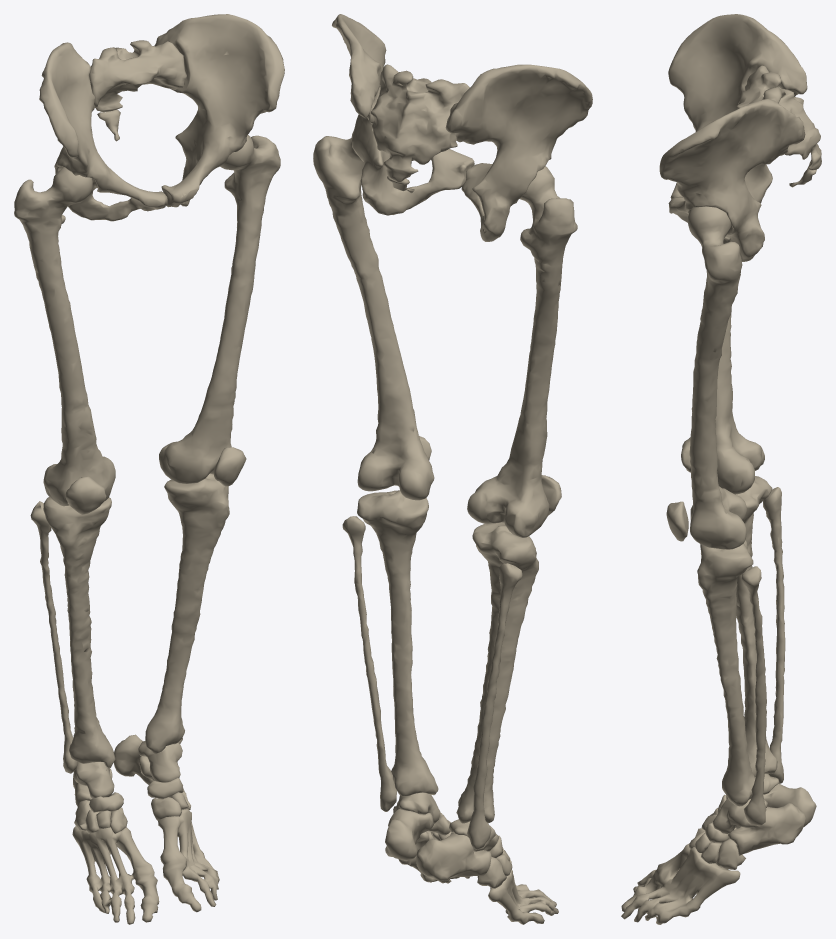
The model's file is vhf_lower_limb_adult_female.skeletal.LOD3.glb.
3 renders of one model, left to right at view 1: azimuth 30°, elevation 25°; view 2: azimuth 150°, elevation 25°; view 3: azimuth 270°, elevation 25°, orthographic. The views are drawn at different scales.
Visible parts, largest first — view 1: VHF_LOWER_LIMB.ADULT.FEMALE.SKELETAL.HIP_BONE_OS_COXAE.L, VHF_LOWER_LIMB.ADULT.FEMALE.SKELETAL.FEMUR.R, VHF_LOWER_LIMB.ADULT.FEMALE.SKELETAL.FEMUR.L, VHF_LOWER_LIMB.ADULT.FEMALE.SKELETAL.TIBIA.L, VHF_LOWER_LIMB.ADULT.FEMALE.SKELETAL.METATARSALS_AND_PHALANG (×2), VHF_LOWER_LIMB.ADULT.FEMALE.SKELETAL.HIP_BONE_OS_COXAE.R, VHF_LOWER_LIMB.ADULT.FEMALE.SKELETAL.TIBIA.R, VHF_LOWER_LIMB.ADULT.FEMALE.SKELETAL.SACRUM, VHF_LOWER_LIMB.ADULT.FEMALE.SKELETAL.FIBULA.R, VHF_LOWER_LIMB.ADULT.FEMALE.SKELETAL.CALCANEUS.L, VHF_LOWER_LIMB.ADULT.FEMALE.SKELETAL.TALUS.L, VHF_LOWER_LIMB.ADULT.FEMALE.SKELETAL.PATELLA.R (+2 smaller); view 2: VHF_LOWER_LIMB.ADULT.FEMALE.SKELETAL.HIP_BONE_OS_COXAE.R, VHF_LOWER_LIMB.ADULT.FEMALE.SKELETAL.FEMUR.L, VHF_LOWER_LIMB.ADULT.FEMALE.SKELETAL.FEMUR.R, VHF_LOWER_LIMB.ADULT.FEMALE.SKELETAL.TIBIA.L, VHF_LOWER_LIMB.ADULT.FEMALE.SKELETAL.HIP_BONE_OS_COXAE.L, VHF_LOWER_LIMB.ADULT.FEMALE.SKELETAL.TIBIA.R, VHF_LOWER_LIMB.ADULT.FEMALE.SKELETAL.SACRUM, VHF_LOWER_LIMB.ADULT.FEMALE.SKELETAL.FIBULA.R, VHF_LOWER_LIMB.ADULT.FEMALE.SKELETAL.FIBULA.L, VHF_LOWER_LIMB.ADULT.FEMALE.SKELETAL.CALCANEUS.R, VHF_LOWER_LIMB.ADULT.FEMALE.SKELETAL.METATARSALS_AND_PHALANG, VHF_LOWER_LIMB.ADULT.FEMALE.SKELETAL.CALCANEUS.L (+1 smaller); view 3: VHF_LOWER_LIMB.ADULT.FEMALE.SKELETAL.FEMUR.L, VHF_LOWER_LIMB.ADULT.FEMALE.SKELETAL.HIP_BONE_OS_COXAE.L, VHF_LOWER_LIMB.ADULT.FEMALE.SKELETAL.HIP_BONE_OS_COXAE.R, VHF_LOWER_LIMB.ADULT.FEMALE.SKELETAL.TIBIA.L, VHF_LOWER_LIMB.ADULT.FEMALE.SKELETAL.METATARSALS_AND_PHALANG, VHF_LOWER_LIMB.ADULT.FEMALE.SKELETAL.FEMUR.R, VHF_LOWER_LIMB.ADULT.FEMALE.SKELETAL.TIBIA.R, VHF_LOWER_LIMB.ADULT.FEMALE.SKELETAL.FIBULA.L, VHF_LOWER_LIMB.ADULT.FEMALE.SKELETAL.FIBULA.R, VHF_LOWER_LIMB.ADULT.FEMALE.SKELETAL.SACRUM, VHF_LOWER_LIMB.ADULT.FEMALE.SKELETAL.CALCANEUS.L, VHF_LOWER_LIMB.ADULT.FEMALE.SKELETAL.CALCANEUS.R (+3 smaller).
Part boxes in pixels (x1=…): VHF_LOWER_LIMB.ADULT.FEMALE.SKELETAL.HIP_BONE_OS_COXAE.L: x1=154, y1=14, x2=284, y2=207; VHF_LOWER_LIMB.ADULT.FEMALE.SKELETAL.FEMUR.R: x1=14, y1=167, x2=115, y2=506; VHF_LOWER_LIMB.ADULT.FEMALE.SKELETAL.FEMUR.L: x1=159, y1=135, x2=280, y2=483; VHF_LOWER_LIMB.ADULT.FEMALE.SKELETAL.TIBIA.L: x1=145, y1=473, x2=229, y2=753; VHF_LOWER_LIMB.ADULT.FEMALE.SKELETAL.METATARSALS_AND_PHALANG (×2): x1=72, y1=809, x2=219, y2=924; VHF_LOWER_LIMB.ADULT.FEMALE.SKELETAL.HIP_BONE_OS_COXAE.R: x1=39, y1=42, x2=167, y2=221; VHF_LOWER_LIMB.ADULT.FEMALE.SKELETAL.TIBIA.R: x1=43, y1=497, x2=115, y2=767; VHF_LOWER_LIMB.ADULT.FEMALE.SKELETAL.SACRUM: x1=89, y1=40, x2=186, y2=112; VHF_LOWER_LIMB.ADULT.FEMALE.SKELETAL.FIBULA.R: x1=30, y1=501, x2=78, y2=773; VHF_LOWER_LIMB.ADULT.FEMALE.SKELETAL.CALCANEUS.L: x1=113, y1=734, x2=154, y2=784; VHF_LOWER_LIMB.ADULT.FEMALE.SKELETAL.TALUS.L: x1=138, y1=741, x2=182, y2=782; VHF_LOWER_LIMB.ADULT.FEMALE.SKELETAL.PATELLA.R: x1=65, y1=476, x2=106, y2=514; VHF_LOWER_LIMB.ADULT.FEMALE.SKELETAL.HIP_BONE_OS_COXAE.R: x1=445, y1=64, x2=592, y2=241; VHF_LOWER_LIMB.ADULT.FEMALE.SKELETAL.FEMUR.L: x1=313, y1=136, x2=434, y2=500; VHF_LOWER_LIMB.ADULT.FEMALE.SKELETAL.FEMUR.R: x1=467, y1=166, x2=577, y2=537; VHF_LOWER_LIMB.ADULT.FEMALE.SKELETAL.TIBIA.L: x1=357, y1=490, x2=438, y2=796; VHF_LOWER_LIMB.ADULT.FEMALE.SKELETAL.HIP_BONE_OS_COXAE.L: x1=332, y1=14, x2=474, y2=215; VHF_LOWER_LIMB.ADULT.FEMALE.SKELETAL.TIBIA.R: x1=456, y1=522, x2=538, y2=823; VHF_LOWER_LIMB.ADULT.FEMALE.SKELETAL.SACRUM: x1=370, y1=64, x2=469, y2=182; VHF_LOWER_LIMB.ADULT.FEMALE.SKELETAL.FIBULA.R: x1=467, y1=563, x2=522, y2=849; VHF_LOWER_LIMB.ADULT.FEMALE.SKELETAL.FIBULA.L: x1=342, y1=516, x2=396, y2=811; VHF_LOWER_LIMB.ADULT.FEMALE.SKELETAL.CALCANEUS.R: x1=416, y1=833, x2=491, y2=880; VHF_LOWER_LIMB.ADULT.FEMALE.SKELETAL.METATARSALS_AND_PHALANG: x1=488, y1=860, x2=558, y2=924; VHF_LOWER_LIMB.ADULT.FEMALE.SKELETAL.CALCANEUS.L: x1=385, y1=809, x2=433, y2=860; VHF_LOWER_LIMB.ADULT.FEMALE.SKELETAL.FEMUR.L: x1=687, y1=206, x2=747, y2=549; VHF_LOWER_LIMB.ADULT.FEMALE.SKELETAL.HIP_BONE_OS_COXAE.L: x1=659, y1=99, x2=805, y2=261; VHF_LOWER_LIMB.ADULT.FEMALE.SKELETAL.HIP_BONE_OS_COXAE.R: x1=668, y1=14, x2=807, y2=203; VHF_LOWER_LIMB.ADULT.FEMALE.SKELETAL.TIBIA.L: x1=697, y1=540, x2=755, y2=806; VHF_LOWER_LIMB.ADULT.FEMALE.SKELETAL.METATARSALS_AND_PHALANG: x1=621, y1=843, x2=740, y2=924; VHF_LOWER_LIMB.ADULT.FEMALE.SKELETAL.FEMUR.R: x1=715, y1=235, x2=764, y2=494; VHF_LOWER_LIMB.ADULT.FEMALE.SKELETAL.TIBIA.R: x1=736, y1=476, x2=777, y2=777; VHF_LOWER_LIMB.ADULT.FEMALE.SKELETAL.FIBULA.L: x1=741, y1=566, x2=766, y2=826; VHF_LOWER_LIMB.ADULT.FEMALE.SKELETAL.FIBULA.R: x1=763, y1=487, x2=785, y2=783; VHF_LOWER_LIMB.ADULT.FEMALE.SKELETAL.SACRUM: x1=736, y1=65, x2=821, y2=170; VHF_LOWER_LIMB.ADULT.FEMALE.SKELETAL.CALCANEUS.L: x1=728, y1=803, x2=805, y2=855; VHF_LOWER_LIMB.ADULT.FEMALE.SKELETAL.CALCANEUS.R: x1=763, y1=783, x2=816, y2=827.
Bounding box in the file's own units: 0.325 × 1.02 × 0.217.
